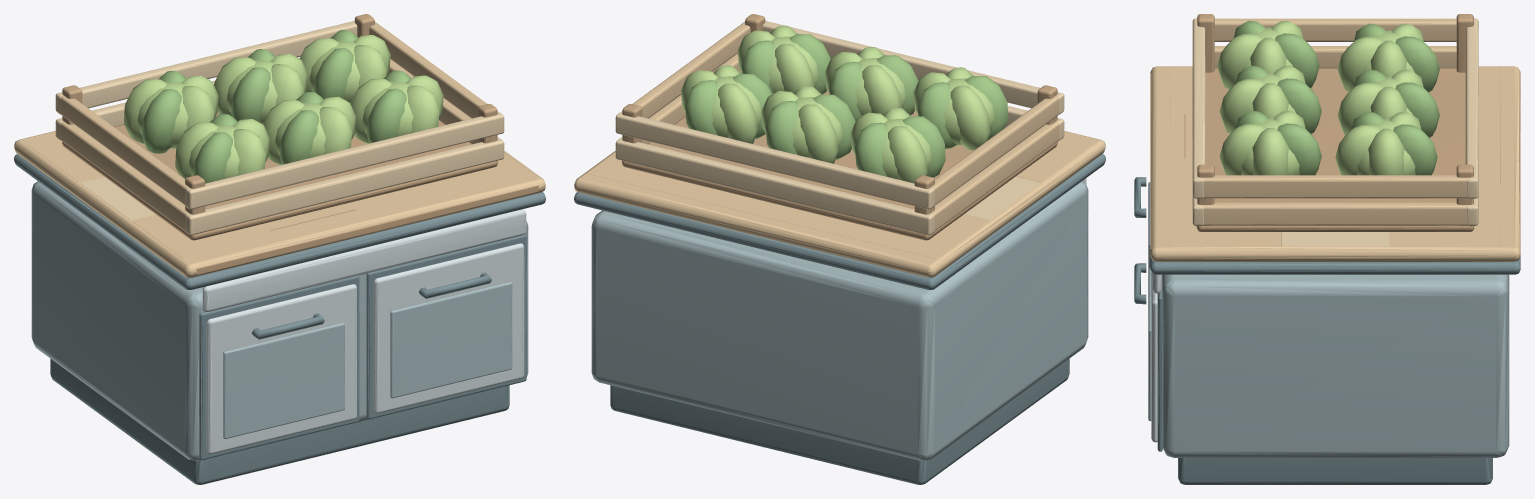
File: PantryLettuce.fbx
The picture shows the model from 3 angles, left to right: view 1: azimuth 30°, elevation 25°; view 2: azimuth 150°, elevation 25°; view 3: azimuth 270°, elevation 25°; orthographic projection. The views are drawn at different scales.
Parts seen in each view (by area): view 1: PantryLettuce; view 2: PantryLettuce; view 3: PantryLettuce.
Boxes of the visible parts, x1=… form: PantryLettuce: x1=14, y1=14, x2=545, y2=484; PantryLettuce: x1=574, y1=14, x2=1105, y2=484; PantryLettuce: x1=1134, y1=14, x2=1520, y2=484.
Size of the model in its own units: 1.9 by 1.58 by 1.67.
